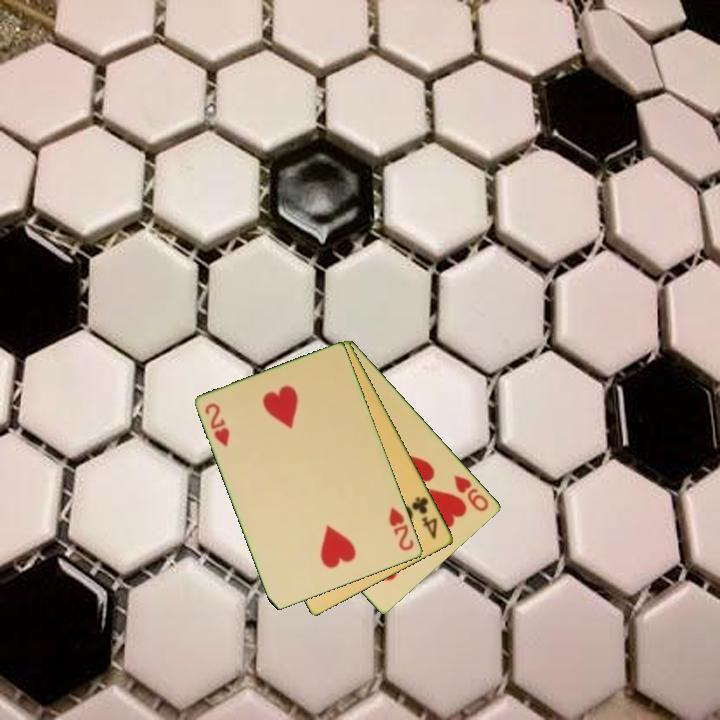2h: (386, 503, 417, 554), (202, 400, 233, 450)
4c: (408, 493, 441, 543)
9h: (451, 471, 492, 514)
